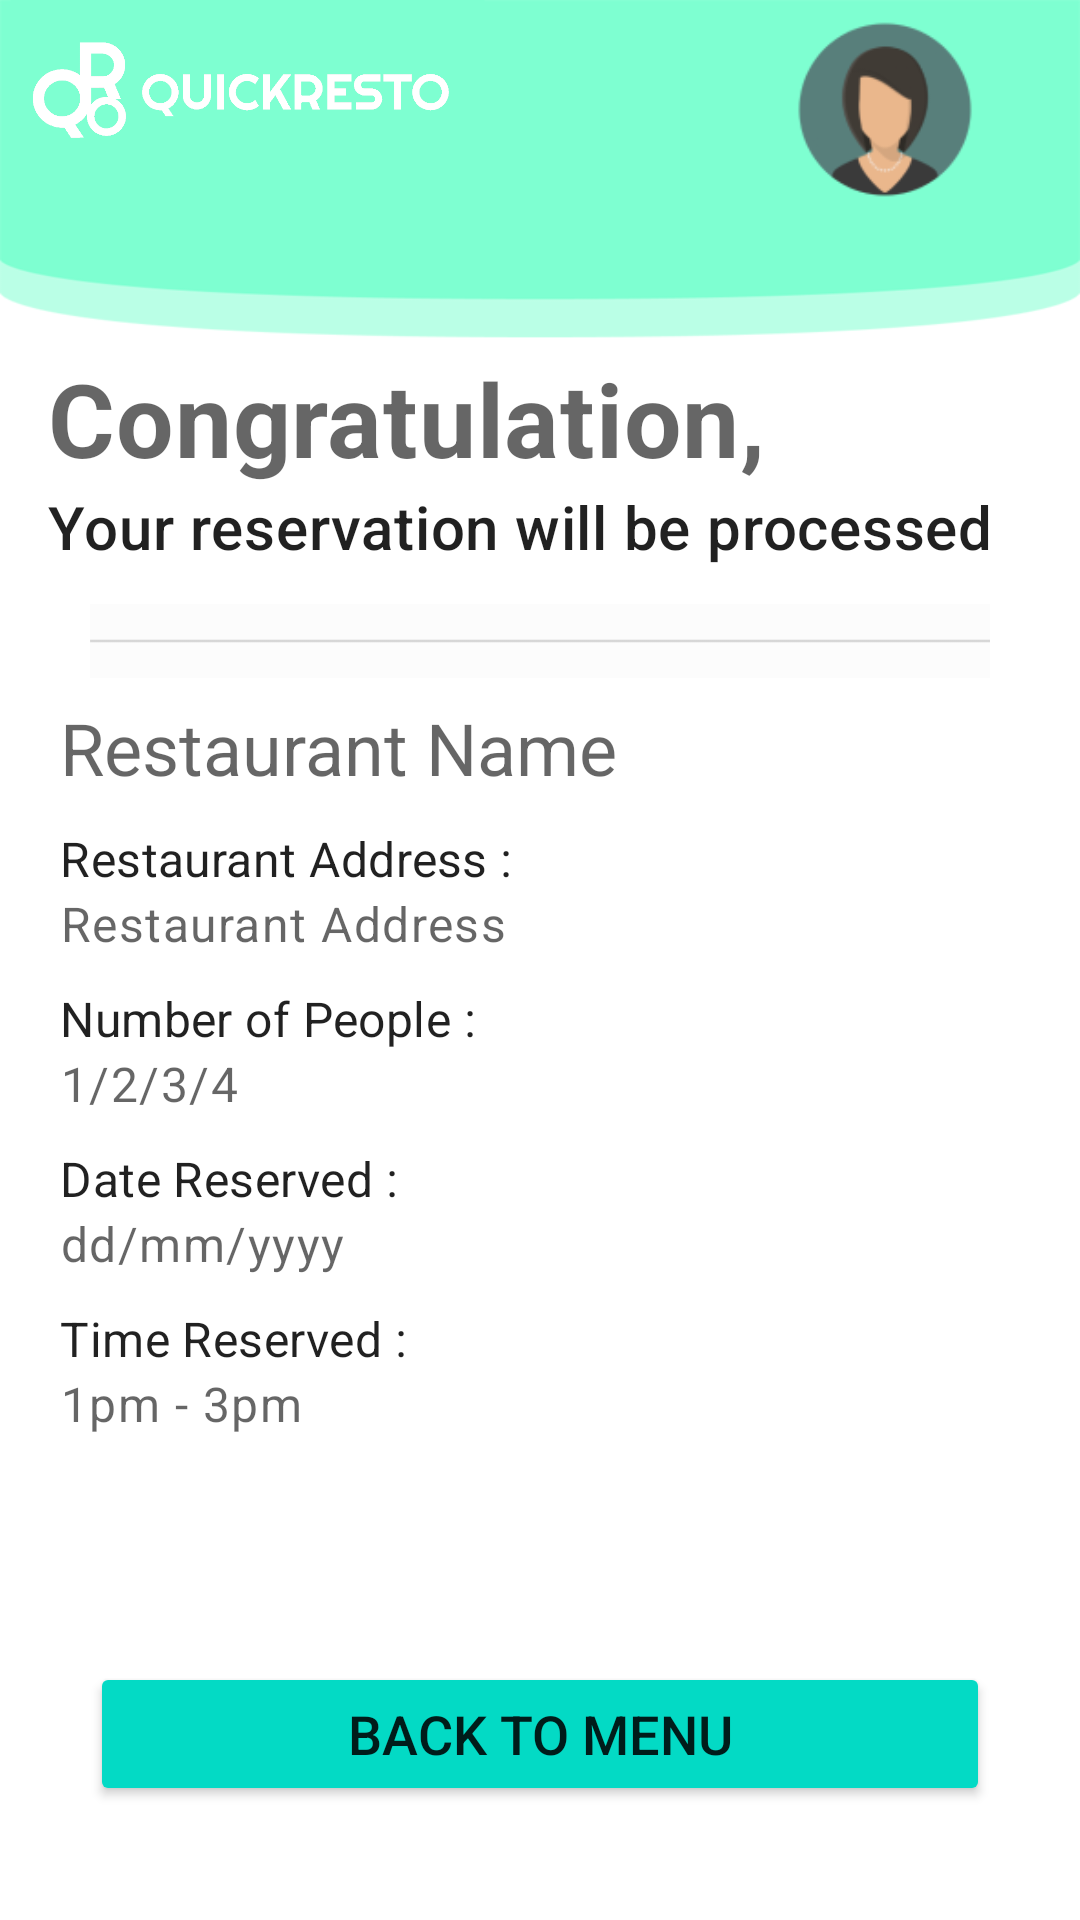

Icon bounding boxes for this 1080px×1920px phone screenshot, format (x1, y1, x2, y2):
user: (798, 23, 972, 197)
